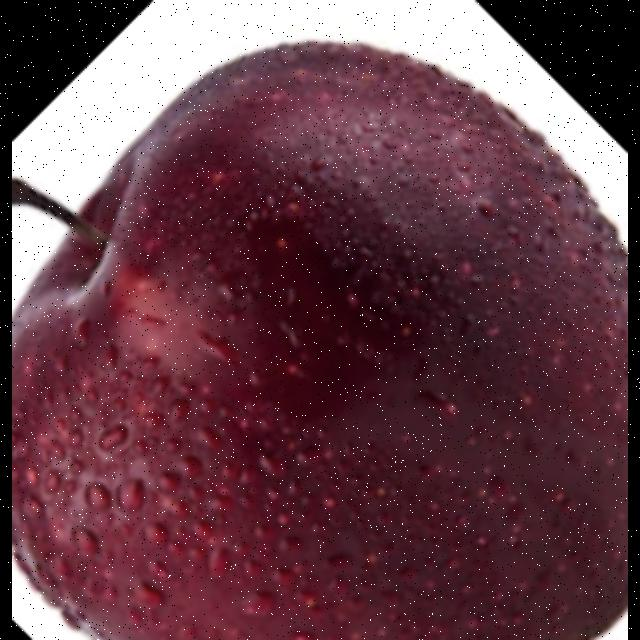Apel Segar: (12, 36, 628, 640)
